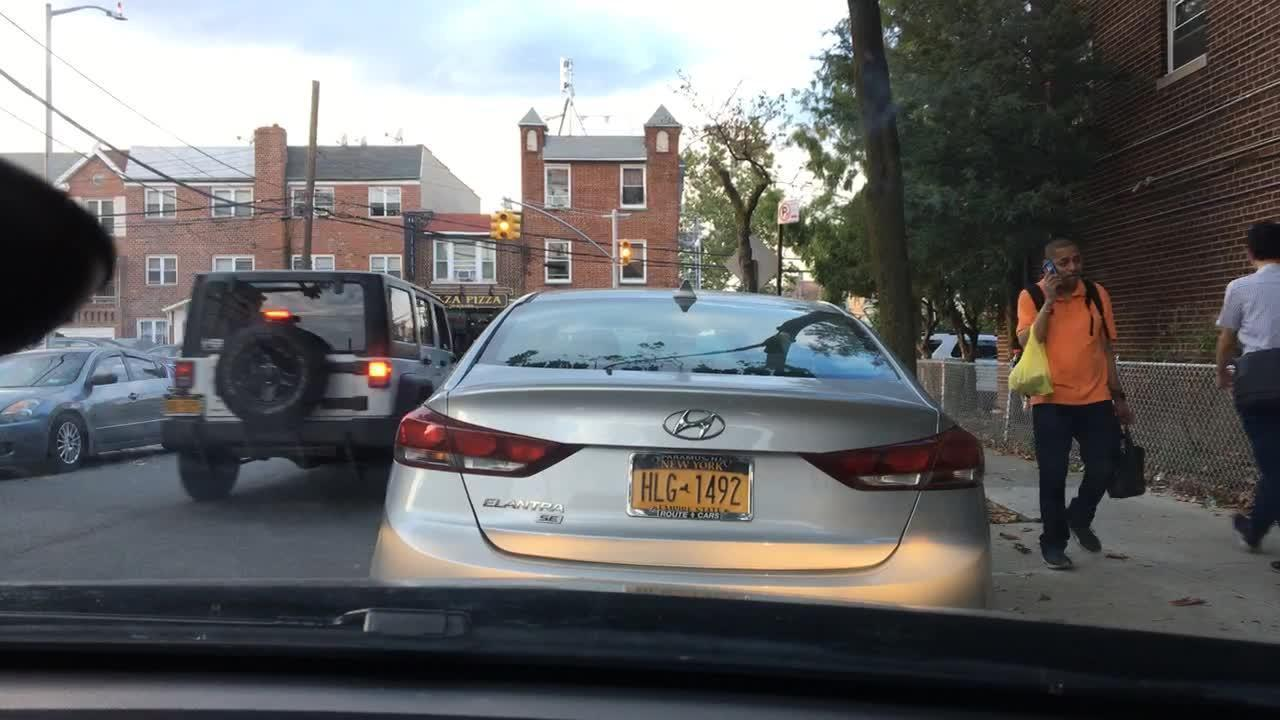Hyundai: (651, 394, 749, 456)
